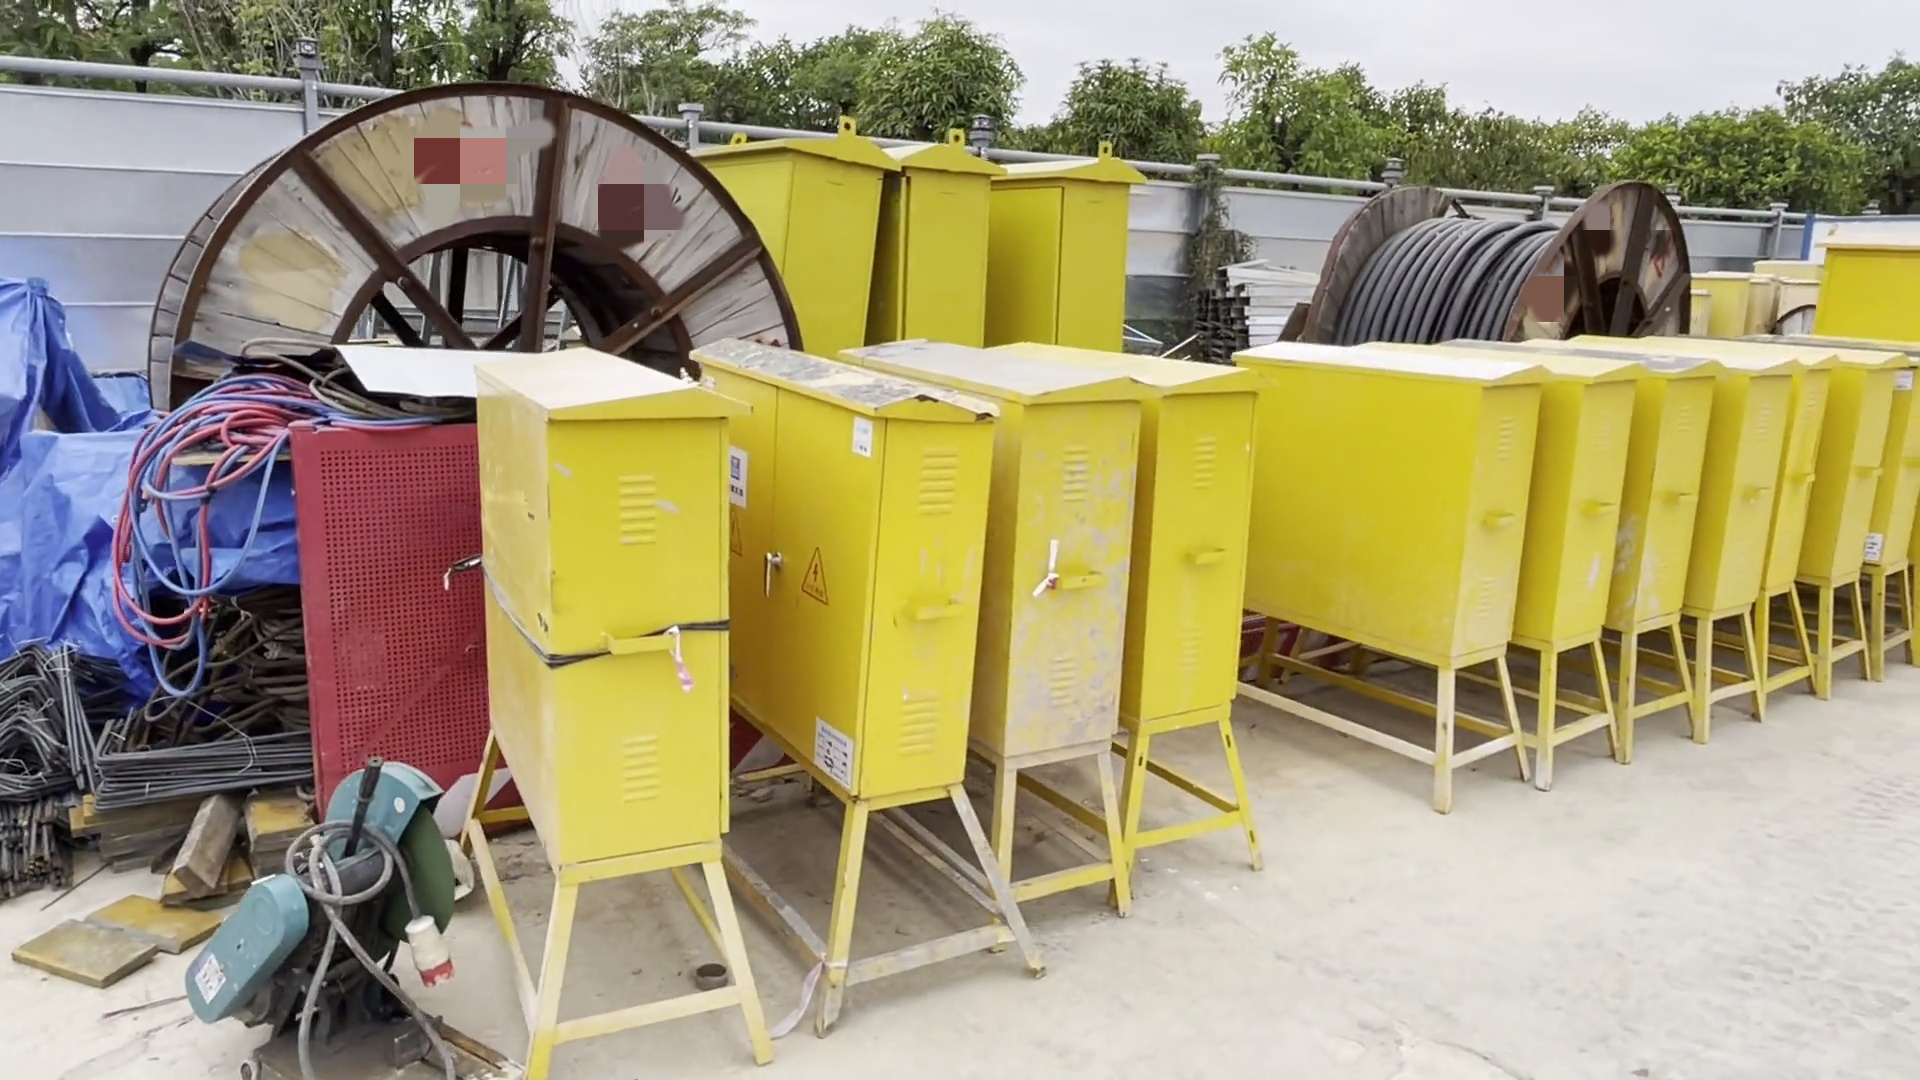ebox: (444, 334, 775, 1072), (709, 338, 1048, 1035), (853, 322, 1139, 926), (1019, 339, 1265, 880), (1247, 355, 1522, 802), (1422, 345, 1633, 770), (667, 102, 897, 342), (1689, 342, 1789, 749), (1613, 360, 1708, 745), (1800, 345, 1892, 700), (997, 131, 1159, 320), (885, 115, 1001, 338)
